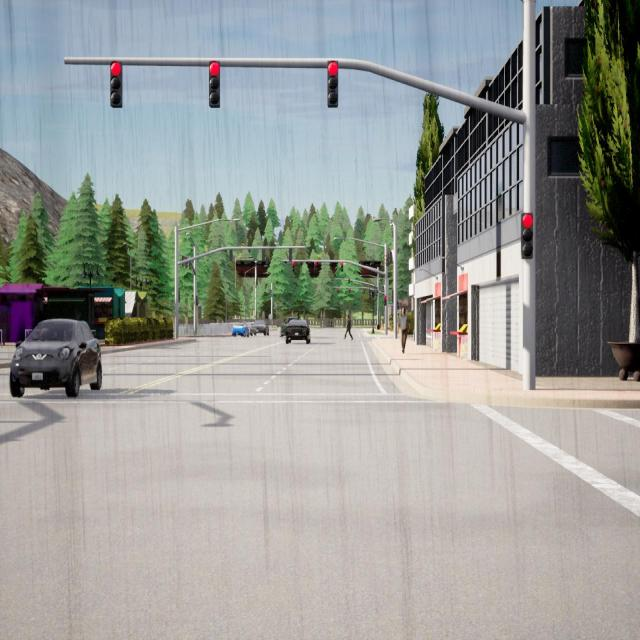Pedestrian: (397, 307, 409, 353), (344, 314, 353, 340)
Traffic_Signs: (268, 314, 272, 319)
Vehicle: (10, 318, 101, 396), (286, 319, 310, 344), (280, 316, 298, 337), (250, 320, 269, 336), (232, 321, 249, 337)
traffic_light: (110, 61, 123, 108), (521, 213, 533, 259), (209, 61, 220, 108), (327, 61, 338, 107), (289, 248, 292, 261), (262, 249, 265, 261), (314, 261, 317, 272), (185, 257, 188, 268), (182, 256, 185, 266), (292, 262, 295, 272), (388, 252, 390, 265), (178, 290, 180, 302), (230, 250, 232, 262), (386, 254, 388, 266), (391, 290, 393, 302), (189, 261, 192, 269), (390, 252, 392, 264), (341, 261, 343, 272), (384, 296, 386, 306), (196, 296, 198, 305), (348, 288, 351, 293), (348, 279, 350, 286), (363, 288, 365, 294), (256, 278, 258, 284), (337, 288, 339, 293), (270, 290, 271, 294)
